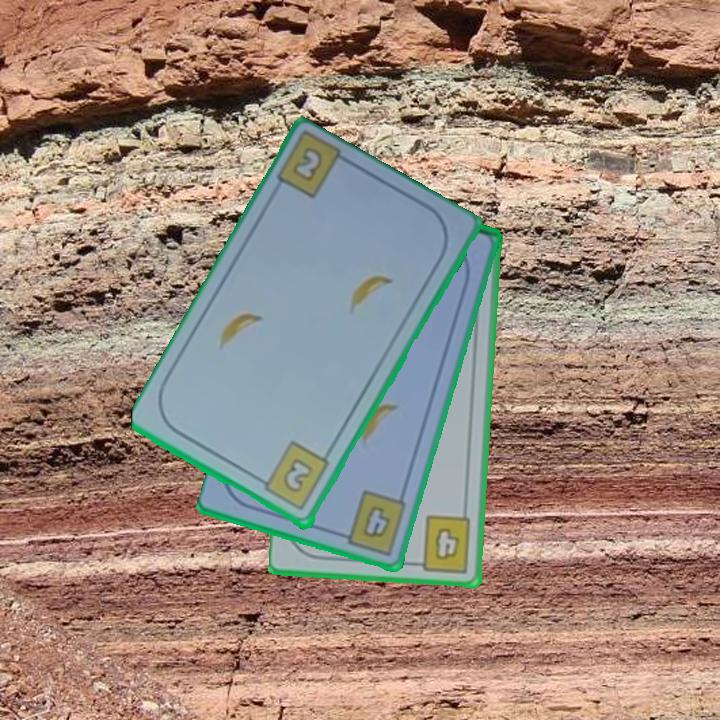2b: (253, 438, 333, 514), (289, 144, 326, 186)
4b: (334, 487, 410, 558), (409, 512, 474, 575)
